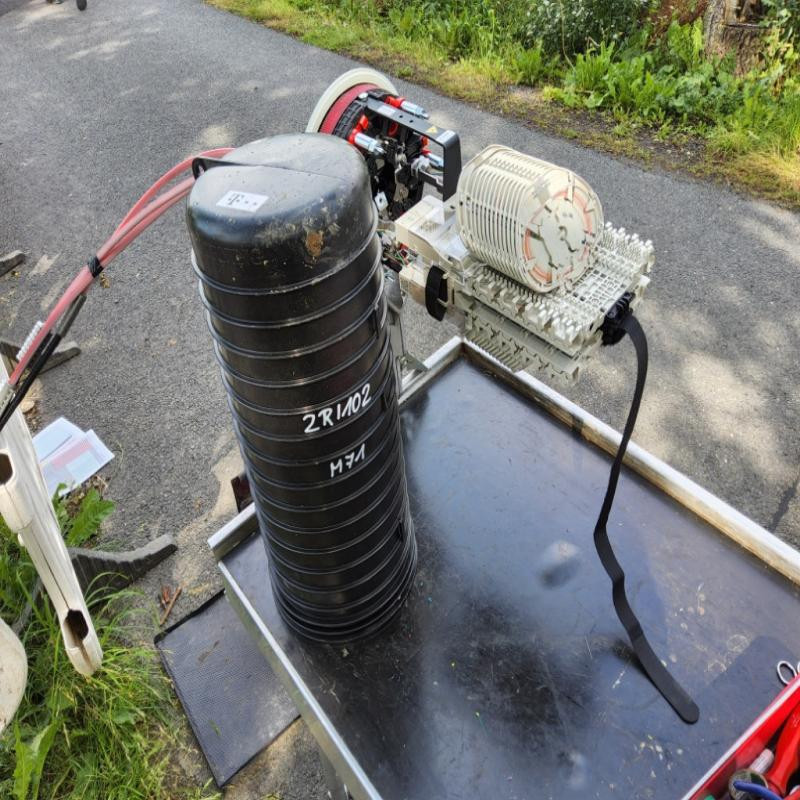NT-Muffen: (187, 129, 423, 643), (304, 66, 662, 389)
